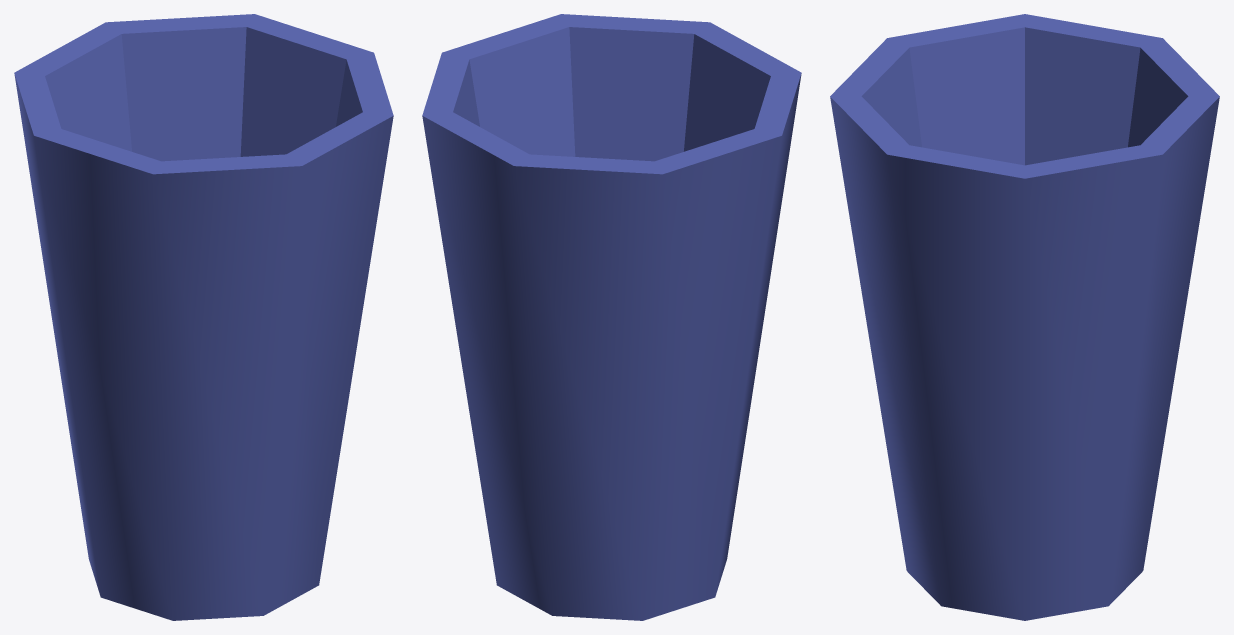
File: blockout_Glass.fbx
The picture shows the model from 3 angles, left to right: view 1: azimuth 30°, elevation 25°; view 2: azimuth 150°, elevation 25°; view 3: azimuth 270°, elevation 25°; orthographic projection.
Parts seen in each view (by area): view 1: blockout_Glass; view 2: blockout_Glass; view 3: blockout_Glass.
Boxes of the visible parts, x1,y1,x2,y2 form: blockout_Glass: (14, 14, 393, 620); blockout_Glass: (422, 14, 801, 620); blockout_Glass: (830, 14, 1219, 620).
Size of the model in its own units: 11.32 by 15.2 by 11.32.
Materials: 1 (1 with a texture image).
